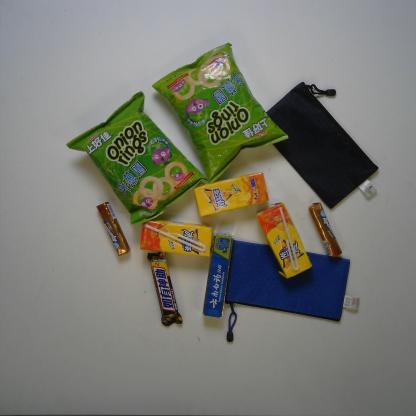Candy: (309, 202, 342, 260), (97, 201, 130, 257)
Chocolate: (146, 250, 182, 328)
Drink: (256, 201, 312, 280), (193, 172, 269, 217), (139, 218, 214, 258)
Personal Hygiene: (201, 233, 233, 318)
Puffed Food: (151, 41, 289, 184), (66, 90, 210, 227)
Stationery: (258, 81, 380, 210), (224, 239, 360, 343)
